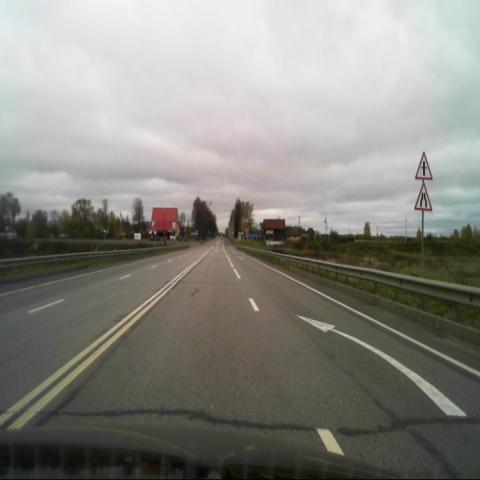1_20: (415, 182, 433, 212)
